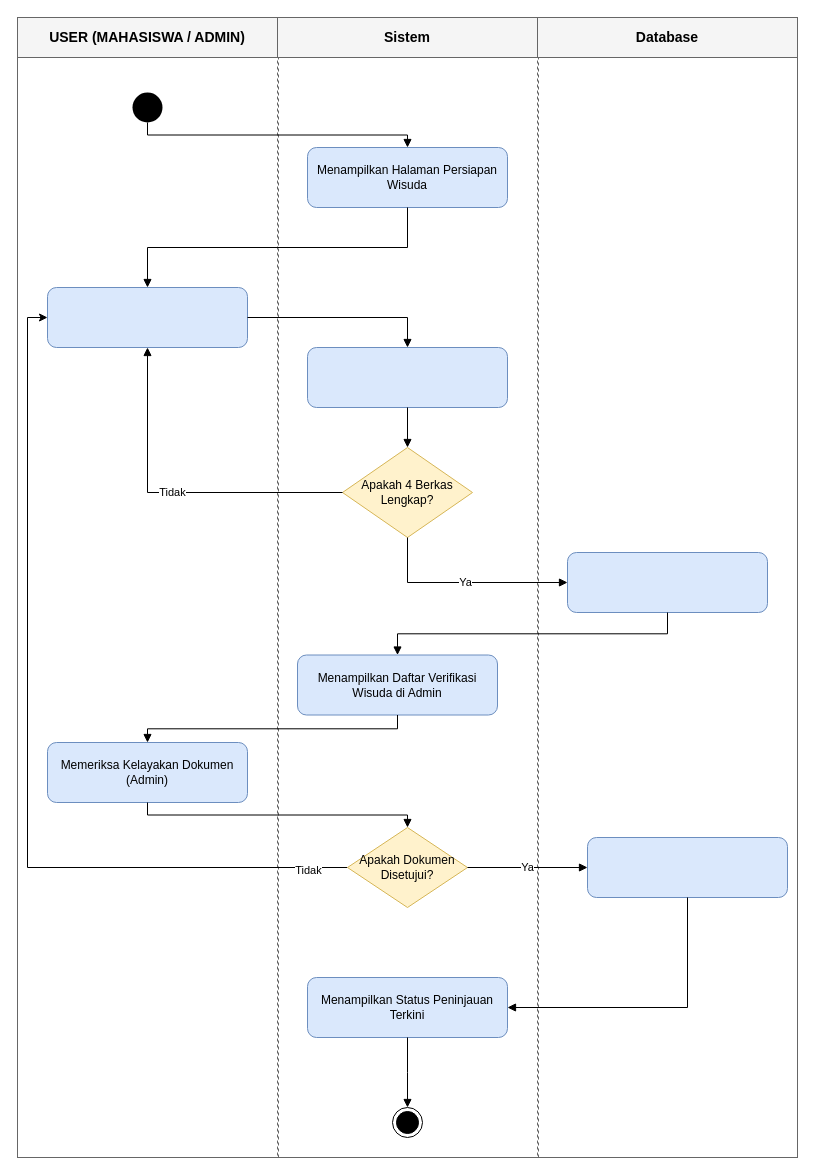
The diagram is 815 pixels wide and 1175 high, and some of its shapes have lost their labels. Here are the shapes that lost their labels. From the top down, the centre of each, then its label:
At (x=147, y=317): "Mengunggah 4 Berkas PDF Kelulusan Wajib".
At (x=407, y=377): "Memeriksa Kelengkapan Berkas".
At (x=667, y=582): "Menyimpan Berkas & Ubah Status Menunggu Verifikasi".
At (x=687, y=867): "Update Status Wisuda & Kelulusan Selesai".
